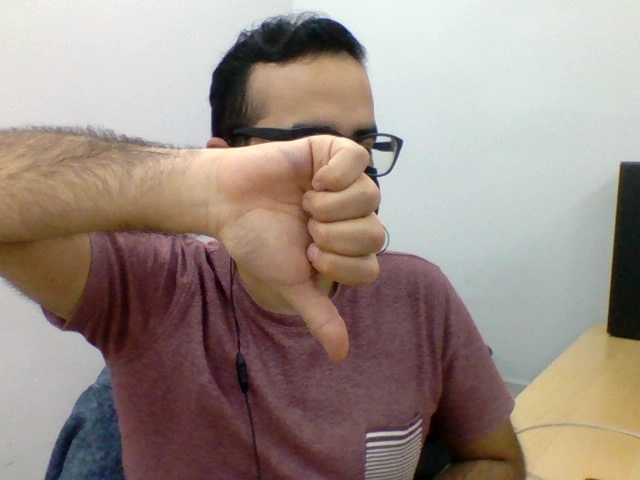ThumbsDown: (214, 133, 386, 364)
